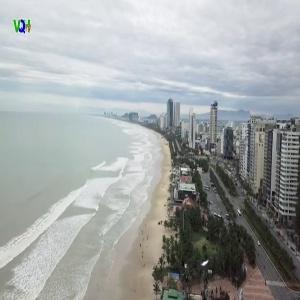drone: (177, 243, 232, 298)
